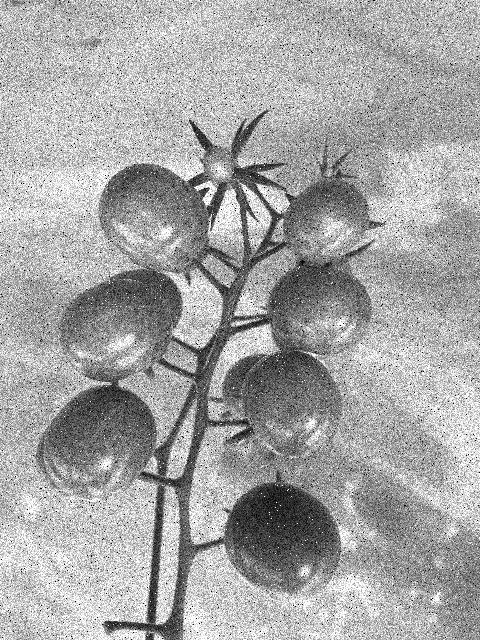l_fully_ripened: (223, 480, 342, 603)
l_green: (44, 385, 157, 502), (99, 163, 208, 272), (58, 280, 172, 381), (241, 351, 343, 458), (266, 264, 373, 355), (282, 177, 370, 264), (107, 270, 184, 330), (221, 353, 270, 426), (36, 429, 70, 496), (166, 235, 209, 274), (203, 146, 235, 183)
